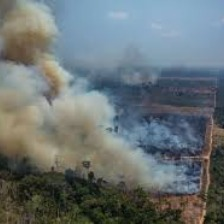incendio: (1, 84, 212, 203)
